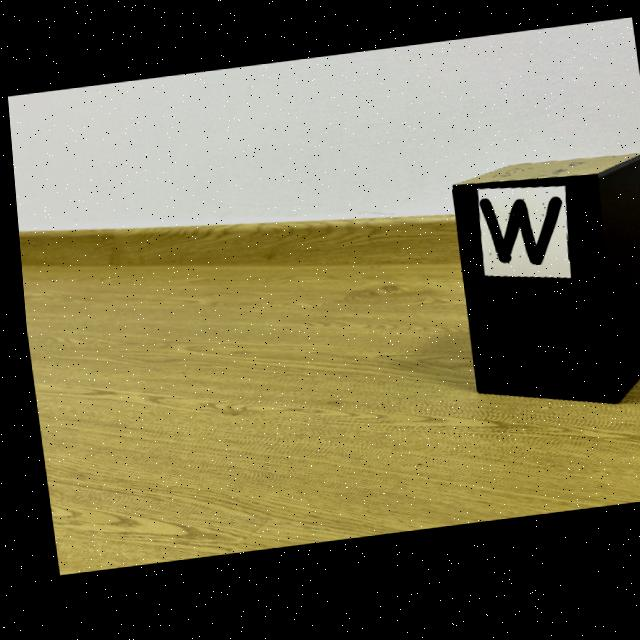W: (476, 205, 559, 272)
